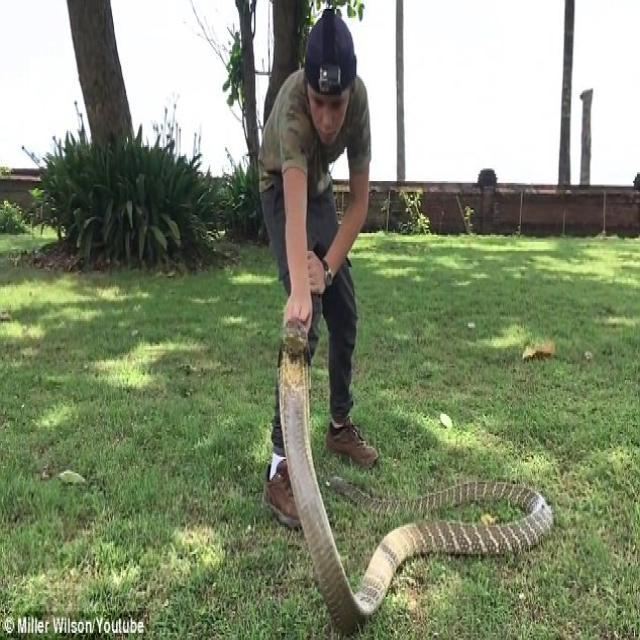Snake: (276, 316, 554, 634)
